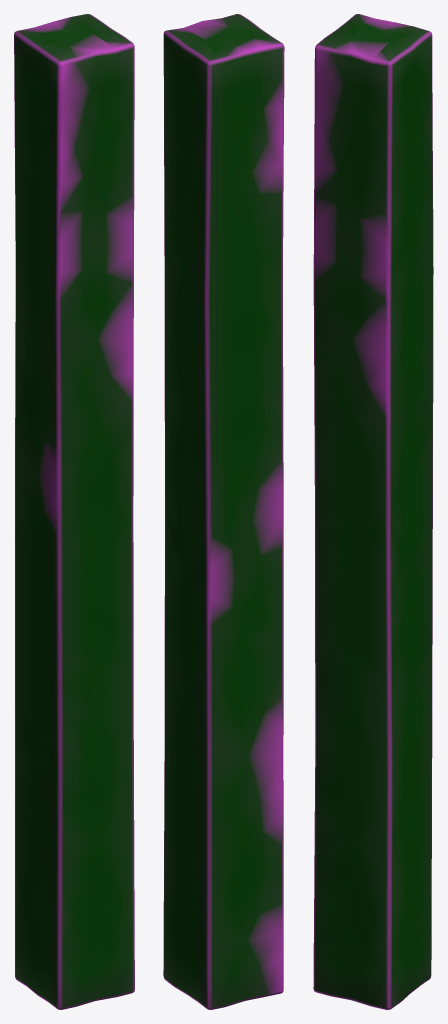
The model's file is pillar_support_01.fbx.
The picture shows the model from 3 angles, left to right: view 1: azimuth 30°, elevation 25°; view 2: azimuth 210°, elevation 25°; view 3: azimuth 330°, elevation 25°; orthographic projection.
Parts seen in each view (by area): view 1: pillar_support_01; view 2: pillar_support_01; view 3: pillar_support_01.
Boxes of the visible parts, box(x1,y1,x2,y2) form: pillar_support_01: box(14, 14, 134, 1009); pillar_support_01: box(163, 14, 284, 1009); pillar_support_01: box(313, 14, 433, 1009).
Bounding box in the file's own units: 0.3066 × 3.51 × 0.3085.
